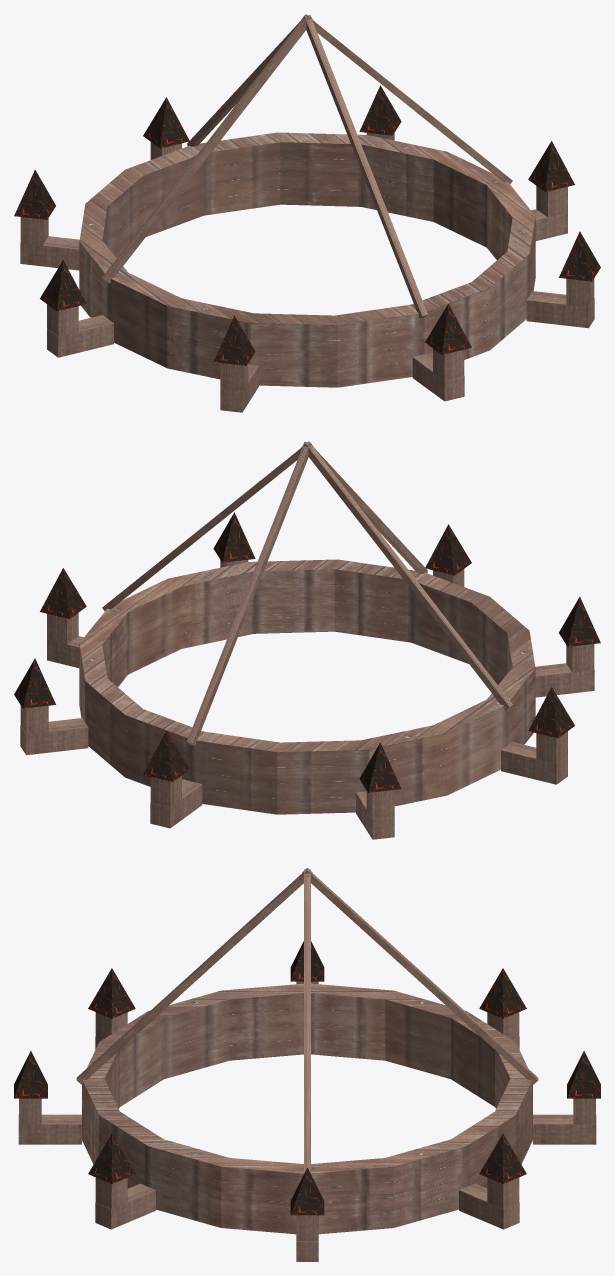
The model's file is 01-lightFixture.fbx.
3 renders of one model, top to bottom at view 1: azimuth 30°, elevation 25°; view 2: azimuth 150°, elevation 25°; view 3: azimuth 270°, elevation 25°, orthographic.
Parts seen in each view (by area): view 1: Cube_1; view 2: Cube_1; view 3: Cube_1.
Part boxes in pixels (left/top/right/bottom): Cube_1: left=14, top=14, right=600, bottom=412; Cube_1: left=14, top=441, right=600, bottom=839; Cube_1: left=14, top=868, right=600, bottom=1261.
Size of the model in its own units: 2.6 by 1.32 by 2.6.
2 materials, 2 textured.
